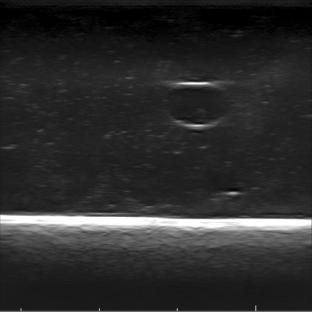vessel: (161, 80, 231, 129)
